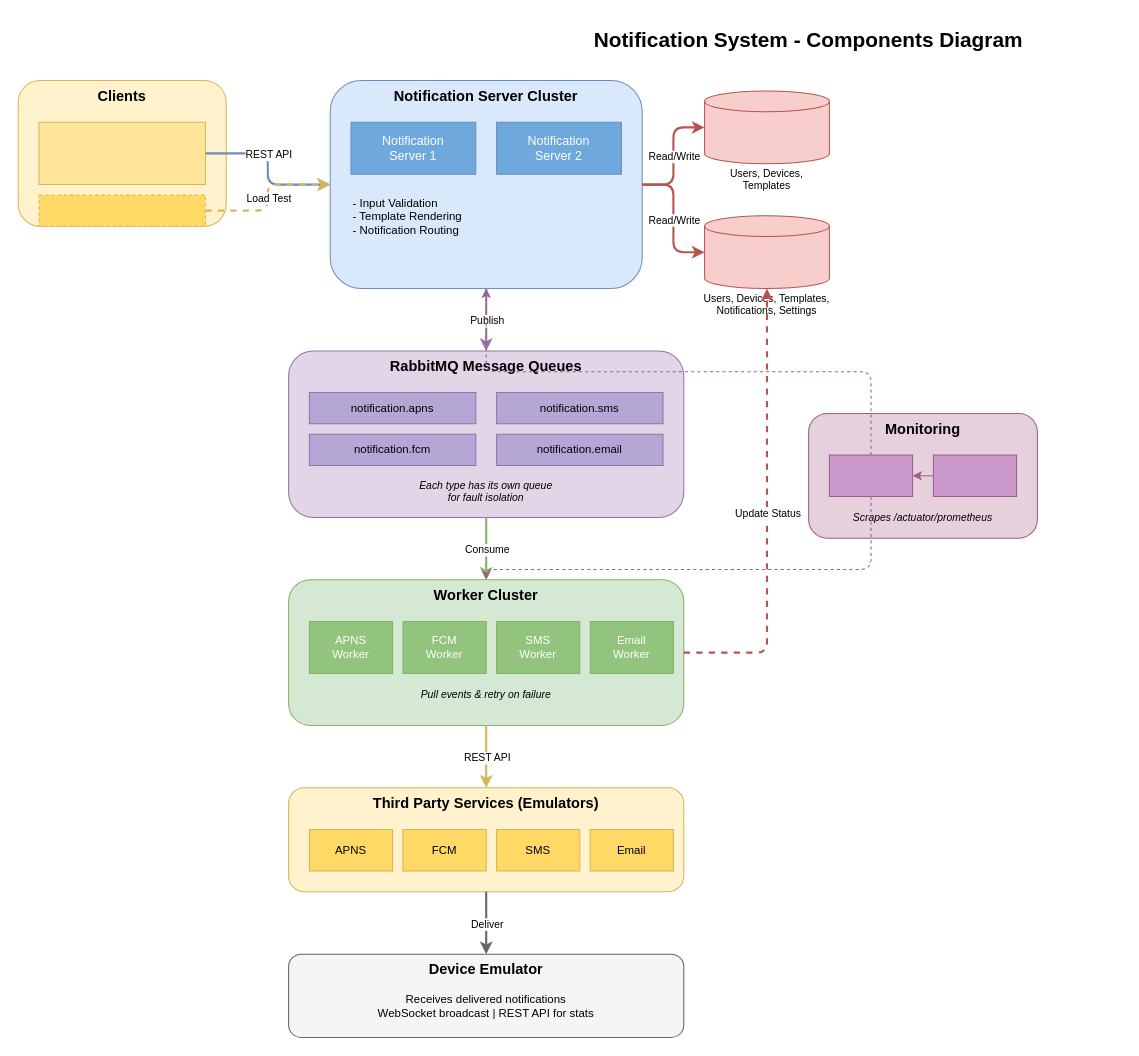
This 1139x1056 diagram has some shape labels left out. Here are the shapes that lost their labels. From the top down, the centre of each, then its label:
At (766,127): "Redis Cache".
At (121,153): "API Clients (Mobile / Web / Services)".
At (121,210): "Load Test Client".
At (766,252): "PostgreSQL".
At (870,475): "Prometheus".
At (974,475): "Grafana".
